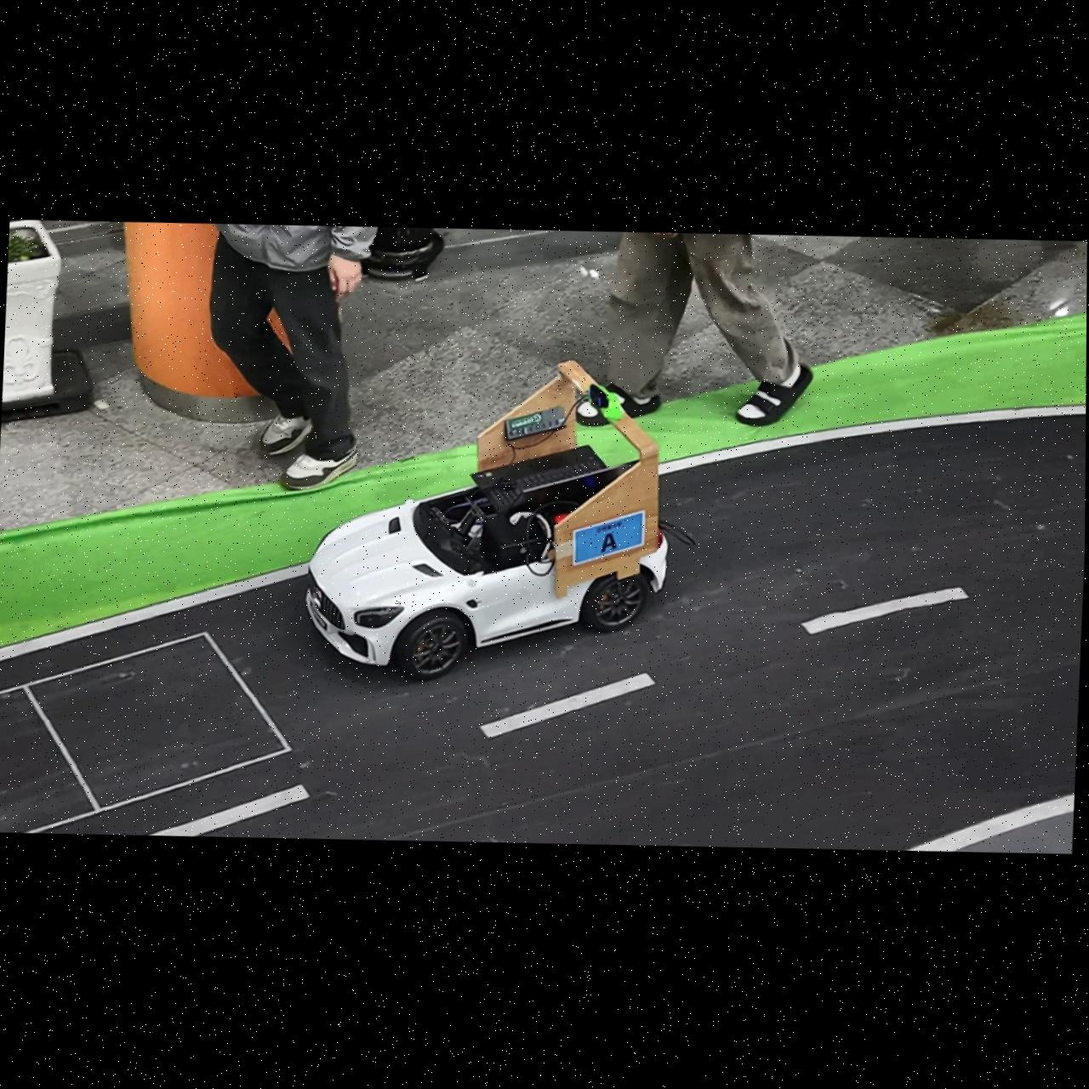broken_line: (479, 673, 655, 738), (147, 784, 309, 835), (800, 587, 968, 634)
